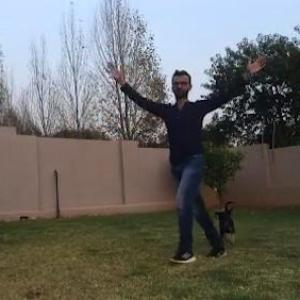takeoff: (110, 61, 260, 268)
